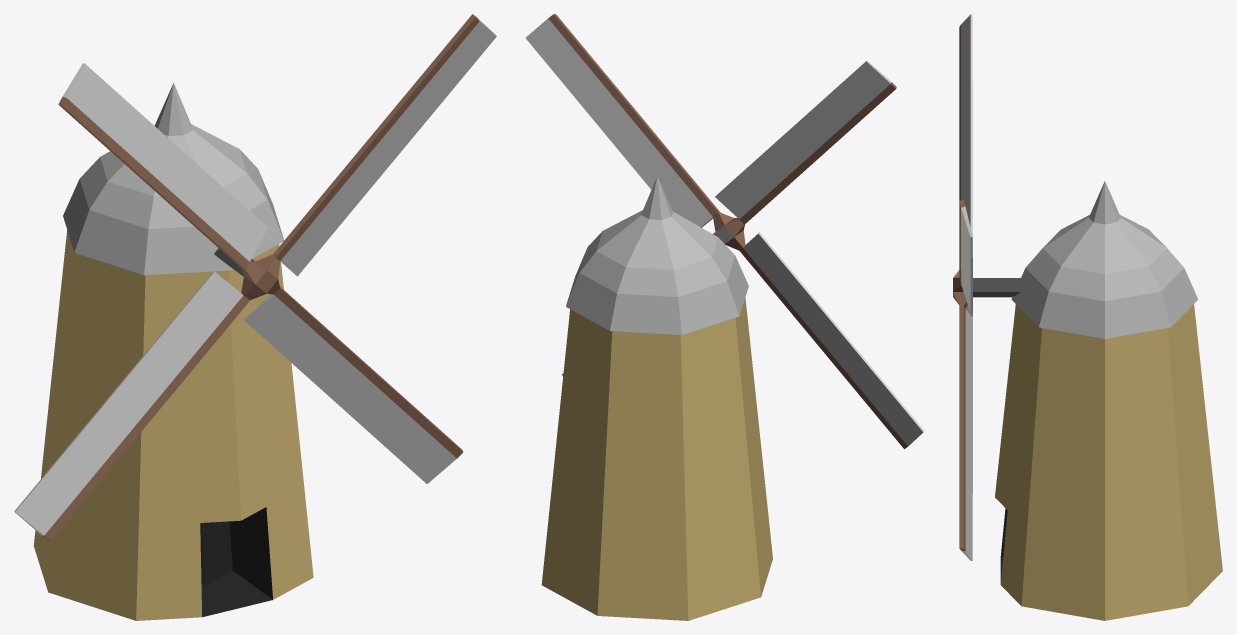
File: Windmill1CounterClockwise.fbx
The picture shows the model from 3 angles, left to right: view 1: azimuth 30°, elevation 25°; view 2: azimuth 150°, elevation 25°; view 3: azimuth 270°, elevation 25°; orthographic projection. The views are drawn at different scales.
Visible parts, largest first — view 1: Cylinder, Cylinder.001; view 2: Cylinder, Cylinder.001; view 3: Cylinder, Cylinder.001.
Boxes of the visible parts, x1,y1,x2,y2 form: Cylinder: [33, 83, 313, 620]; Cylinder.001: [14, 14, 496, 540]; Cylinder: [541, 176, 772, 620]; Cylinder.001: [525, 14, 924, 448]; Cylinder: [995, 181, 1222, 620]; Cylinder.001: [953, 14, 1020, 560].
Size of the model in its own units: 13.82 by 16.45 by 8.23.
